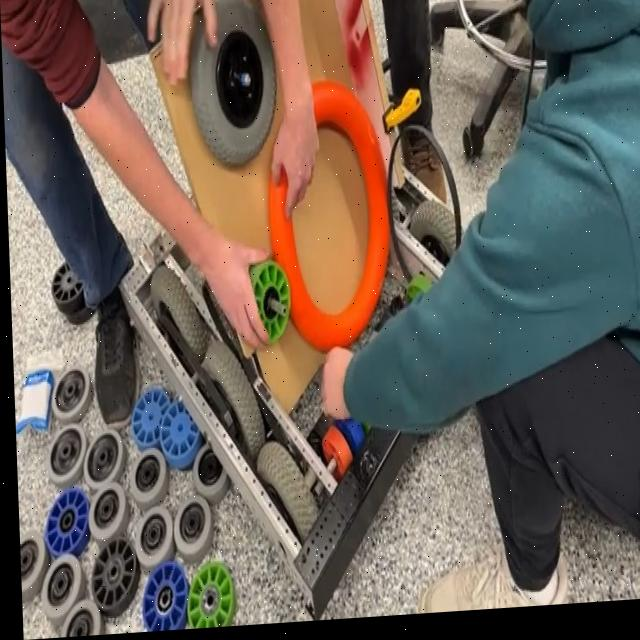note: (260, 77, 393, 363)
